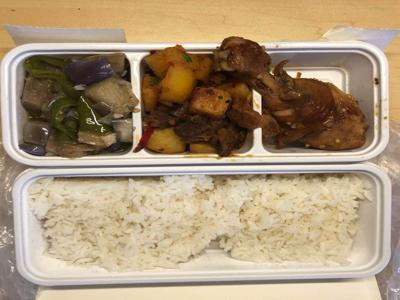jrtd: (141, 50, 247, 159)
jt: (225, 39, 374, 151)
rice: (29, 178, 374, 268)
sqz: (21, 55, 130, 154)
